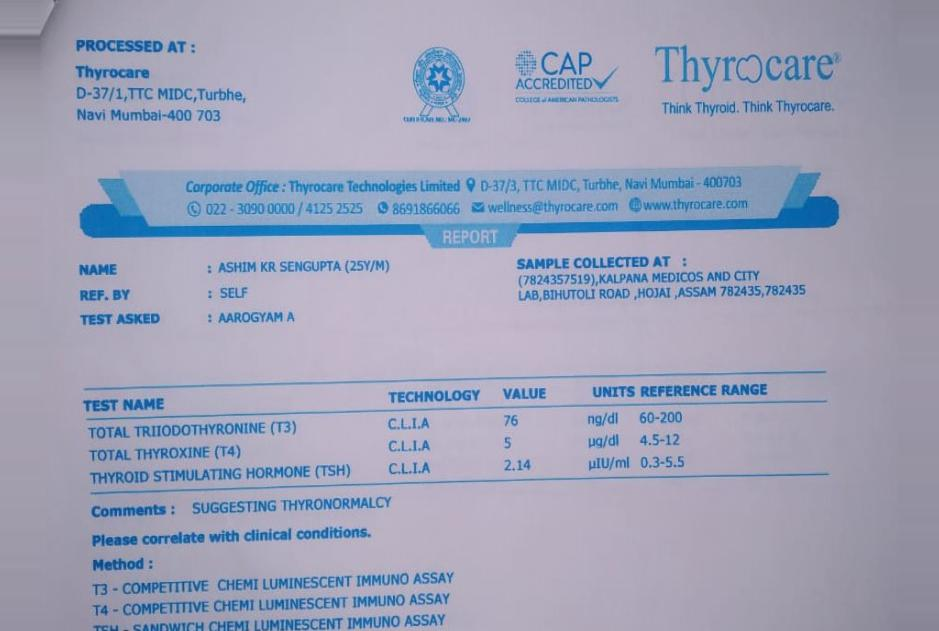Reference Range: (635, 403, 691, 478)
Test Name: (82, 415, 358, 491)
Units: (581, 404, 637, 480)
Value: (495, 406, 542, 481)
